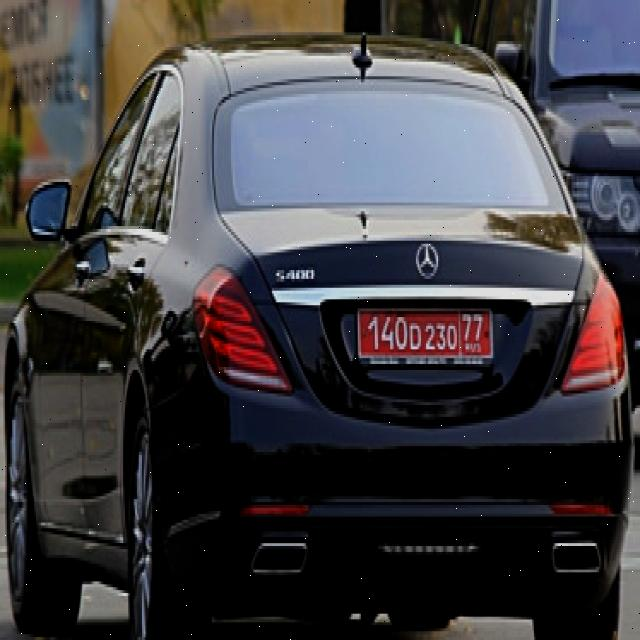number-plates: (354, 306, 496, 370)
